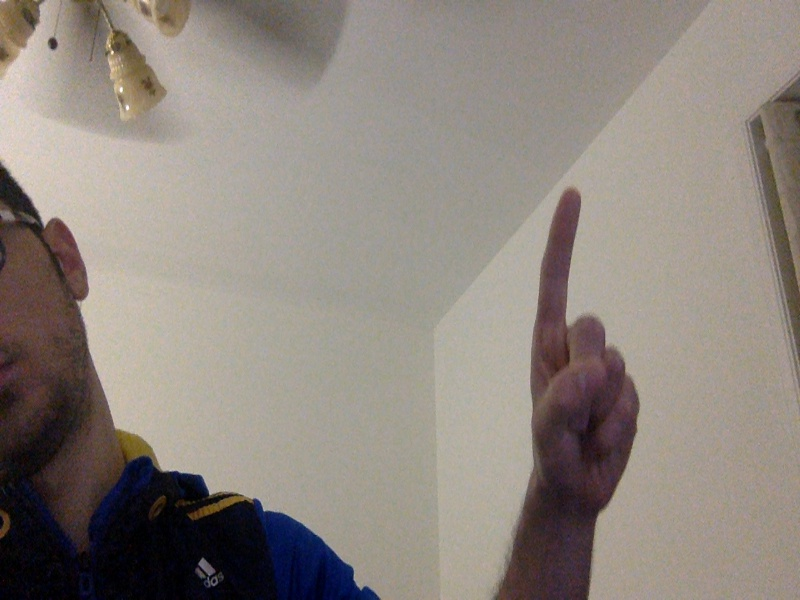1-hand: (530, 186, 638, 510)
